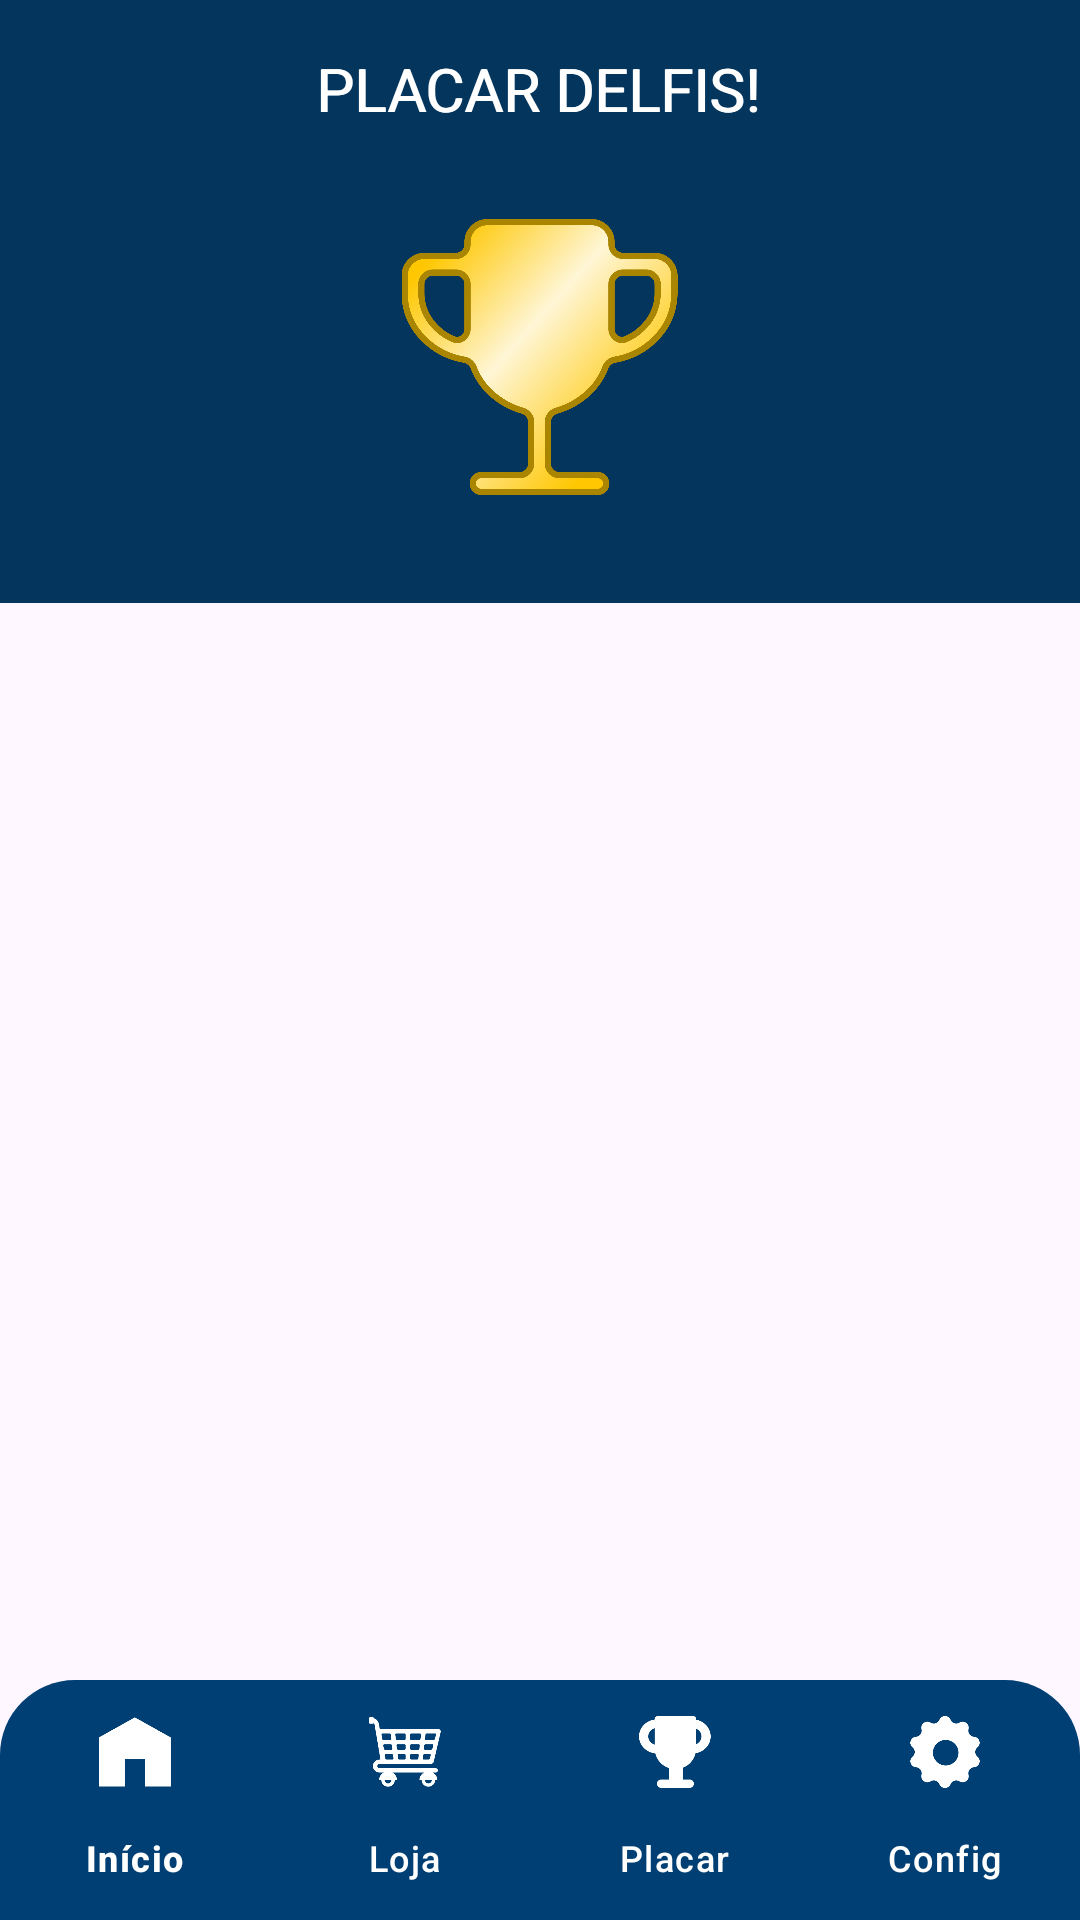

Point at icon controls on the screen. Image size 1080*1920, points as point (x, y).
trofeu: point (540, 357)
